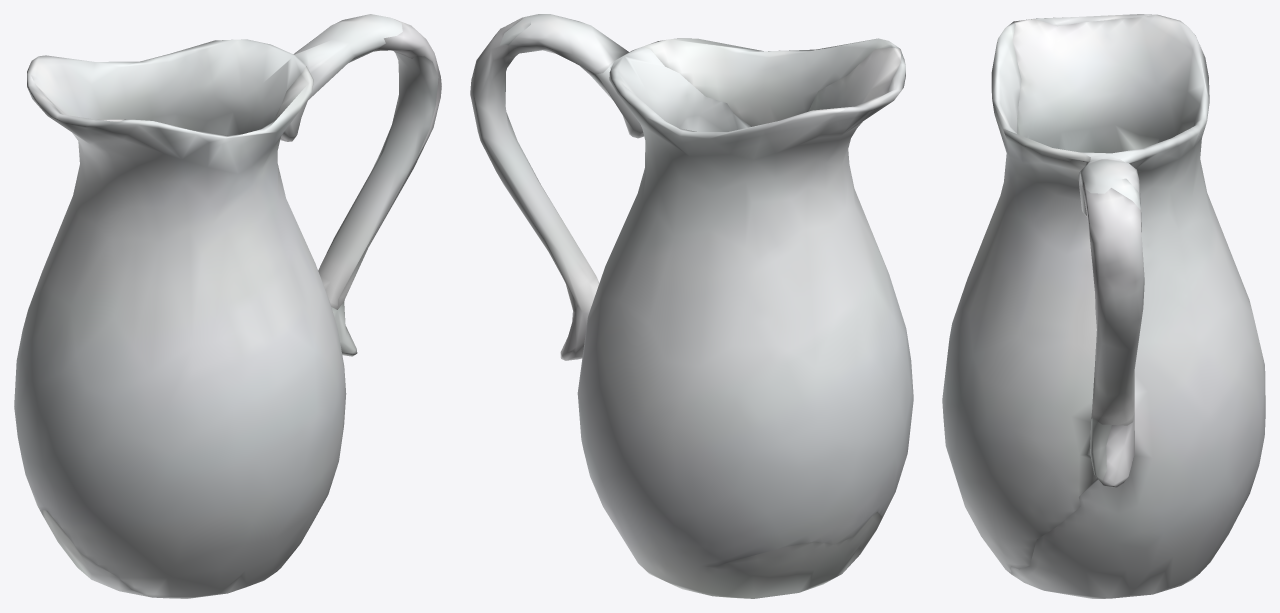
The model's file is Threshold_Porcelain_Pitcher_White-medium.glb.
3 views of the same model, side by side, from view 1: azimuth 30°, elevation 25°; view 2: azimuth 150°, elevation 25°; view 3: azimuth 270°, elevation 25° (orthographic). The views are drawn at different scales.
Parts seen in each view (by area): view 1: Threshold_Porcelain_Pitcher_White; view 2: Threshold_Porcelain_Pitcher_White; view 3: Threshold_Porcelain_Pitcher_White.
Part boxes in pixels (left/top/right/bottom): Threshold_Porcelain_Pitcher_White: left=14, top=14, right=441, bottom=598; Threshold_Porcelain_Pitcher_White: left=470, top=14, right=913, bottom=598; Threshold_Porcelain_Pitcher_White: left=942, top=14, right=1265, bottom=598.
Size of the model in its own units: 0.2387 by 0.2781 by 0.168.
Materials: 1 (1 with a texture image).
